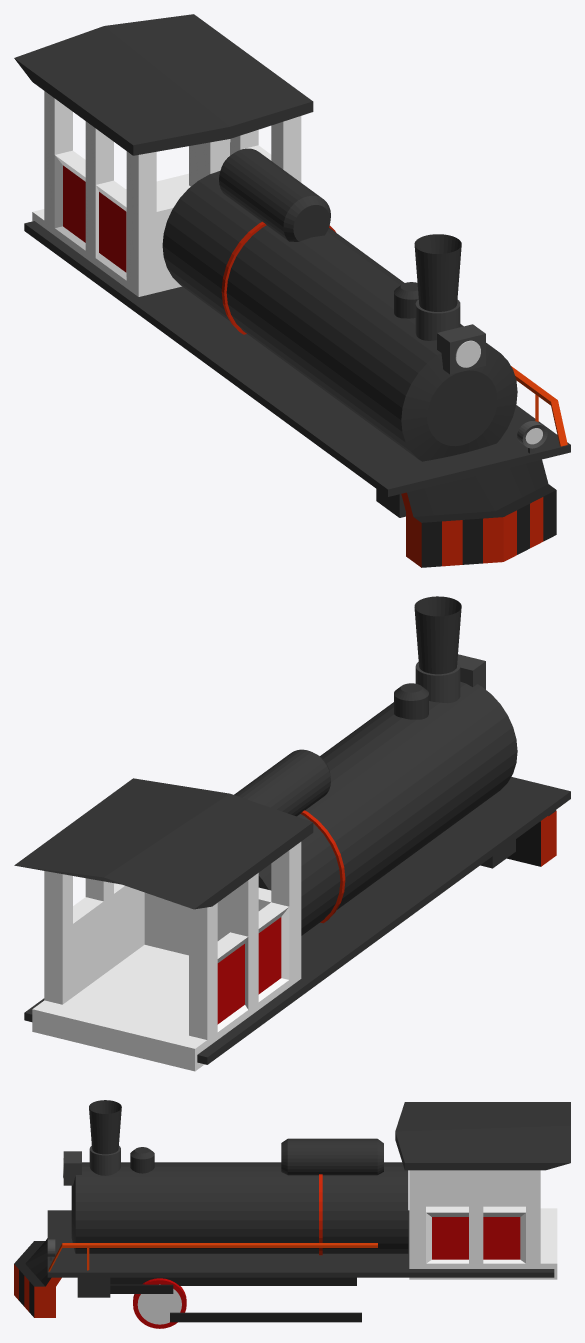
The model's file is train2.glb.
3 views of the same model, one above another, from view 1: azimuth 30°, elevation 25°; view 2: azimuth 150°, elevation 25°; view 3: azimuth 270°, elevation 25° (orthographic). The views are drawn at different scales.
Parts seen in each view (by area): view 1: Cylinder, Cube.010, Cube, Cube.002, Cube.009, Cylinder.008, Cylinder.007, Cube.006, Cylinder.004, Cube.003, Cylinder.005, Cylinder.003; view 2: Cube.002, Cylinder, Cube.010, Cube, Cylinder.008, Cylinder.007, Cube.009, Cylinder.004, Cylinder.005, Cube.006, Cylinder.003; view 3: Cylinder, Cube.002, Cube.010, Cube, Cylinder.008, Cube.009, Cube.004, Cube.008, Cylinder.002, Cube.003, Cylinder.007, Cube.001 (+5 smaller).
Part boxes in pixels (x1,y1,x2,y2): Cylinder: [162, 171, 517, 461]; Cube.010: [14, 14, 313, 155]; Cube: [24, 221, 570, 496]; Cube.002: [32, 91, 301, 296]; Cube.009: [401, 459, 556, 567]; Cylinder.008: [219, 148, 330, 241]; Cylinder.007: [414, 234, 461, 311]; Cube.006: [437, 324, 485, 374]; Cylinder.004: [415, 299, 460, 340]; Cube.003: [511, 366, 567, 446]; Cylinder.005: [394, 282, 418, 318]; Cylinder.003: [221, 221, 335, 334]; Cube.002: [32, 842, 301, 1071]; Cylinder: [258, 681, 517, 935]; Cube.010: [14, 778, 313, 909]; Cube: [24, 777, 570, 1064]; Cylinder.008: [234, 749, 330, 816]; Cylinder.007: [414, 596, 461, 674]; Cube.009: [507, 810, 556, 866]; Cylinder.004: [415, 662, 460, 703]; Cylinder.005: [394, 683, 428, 719]; Cube.006: [457, 654, 485, 689]; Cylinder.003: [300, 810, 345, 923]; Cylinder: [71, 1162, 408, 1253]; Cube.002: [409, 1170, 557, 1279]; Cube.010: [395, 1102, 570, 1170]; Cube: [47, 1210, 554, 1277]; Cylinder.008: [281, 1138, 383, 1175]; Cube.009: [14, 1238, 61, 1317]; Cube.004: [170, 1312, 361, 1322]; Cube.008: [110, 1277, 356, 1285]; Cylinder.002: [133, 1278, 186, 1328]; Cube.003: [48, 1243, 377, 1271]; Cylinder.007: [89, 1100, 121, 1154]; Cube.001: [77, 1277, 110, 1297].
Bounding box in the file's own units: 5.68 × 8.86 × 21.46.
